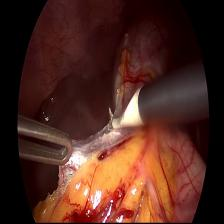Grasper: (13, 111, 75, 170)
Hook: (104, 84, 146, 136)
